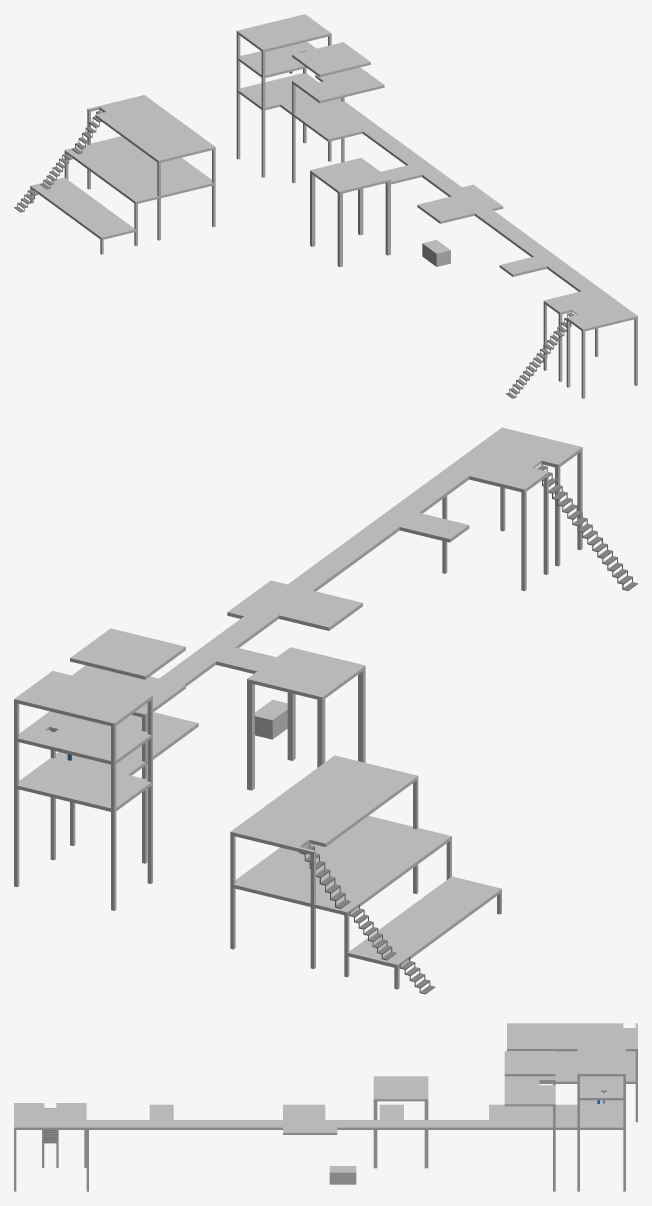
The picture shows the model from 3 angles, top to bottom: view 1: azimuth 30°, elevation 25°; view 2: azimuth 150°, elevation 25°; view 3: azimuth 270°, elevation 25°; orthographic projection. The views are drawn at different scales.
Parts seen in each view (by area): view 1: root; view 2: root; view 3: root.
Part boxes in pixels (x1,y1,x2,y2): root: [14, 14, 637, 398]; root: [14, 427, 637, 994]; root: [14, 1023, 637, 1191].
Size of the model in its own units: 26.25 by 10.7 by 51.5.
Materials: 4 (1 with a texture image).
